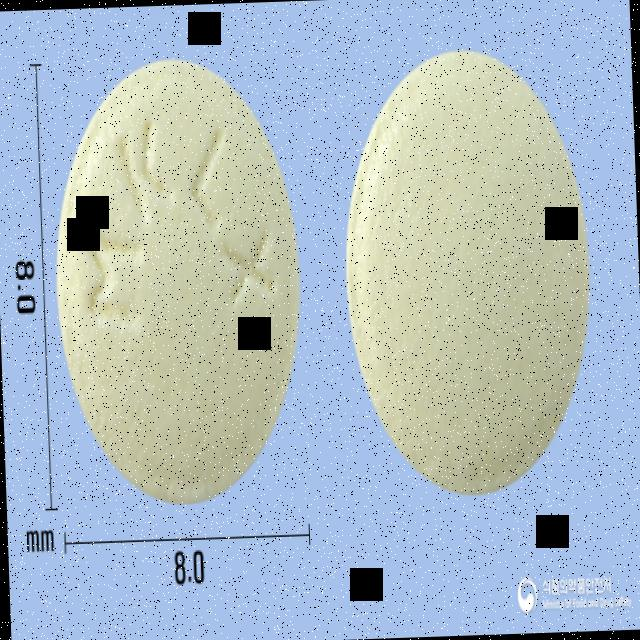Lerocin: (48, 50, 310, 506)
